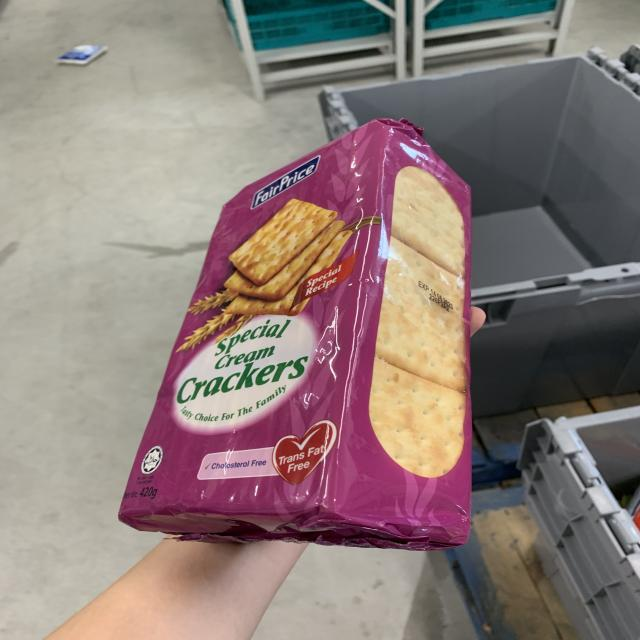object_name: (121, 127, 471, 542)
